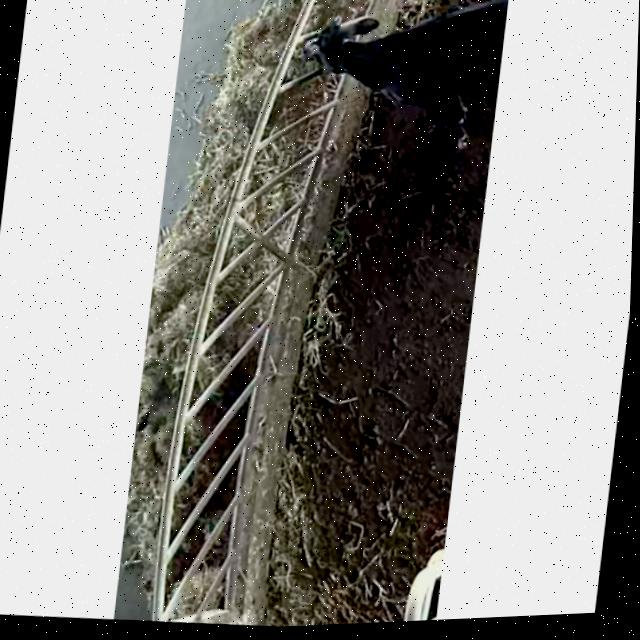eat: (227, 0, 452, 113)
